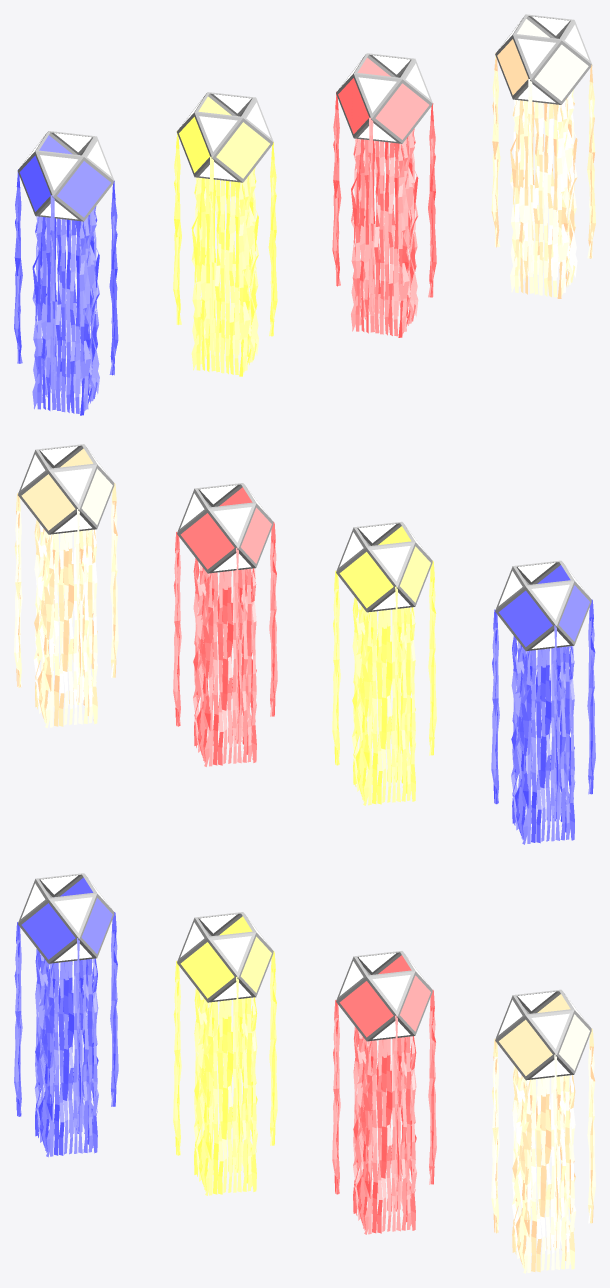
File: vesak_lanterns.glb
3 views of the same model, one above another, from view 1: azimuth 30°, elevation 25°; view 2: azimuth 150°, elevation 25°; view 3: azimuth 330°, elevation 25° (orthographic).
Visible parts, largest first — view 1: Plane.002_3, Plane.007_15, Plane.001_7, Plane.005_11, Cube_0, Cube.003_13, Cube.002_9, Cube.001_5, Plane.003_4, Plane.004_8, Plane.008_16, Plane.006_12; view 2: Plane.002_3, Plane.001_7, Plane.005_11, Plane.007_15, Cube.003_13, Cube.002_9, Cube_0, Cube.001_5, Plane.006_12, Plane.004_8, Plane.008_16, Plane.003_4; view 3: Plane.007_15, Plane.005_11, Plane.001_7, Plane.002_3, Cube_0, Cube.002_9, Cube.003_13, Cube.001_5, Plane.004_8, Plane.006_12, Plane.003_4, Plane.008_16.
Part boxes in pixels (<box>): Plane.002_3: <box>32,206,99,415</box>; Plane.007_15: <box>510,89,577,298</box>; Plane.001_7: <box>191,167,258,376</box>; Plane.005_11: <box>351,128,418,337</box>; Cube_0: <box>17,131,114,221</box>; Cube.003_13: <box>495,14,592,104</box>; Cube.002_9: <box>336,53,432,143</box>; Cube.001_5: <box>177,92,273,182</box>; Plane.003_4: <box>14,169,118,389</box>; Plane.004_8: <box>173,130,277,350</box>; Plane.008_16: <box>491,52,595,272</box>; Plane.006_12: <box>332,91,436,311</box>; Plane.002_3: <box>511,636,575,844</box>; Plane.001_7: <box>352,597,415,805</box>; Plane.005_11: <box>193,558,256,766</box>; Plane.007_15: <box>33,519,97,728</box>; Cube.003_13: <box>18,444,114,534</box>; Cube.002_9: <box>177,483,273,573</box>; Cube_0: <box>495,560,591,651</box>; Cube.001_5: <box>336,521,432,612</box>; Plane.006_12: <box>173,521,277,741</box>; Plane.004_8: <box>332,560,436,780</box>; Plane.008_16: <box>14,483,118,702</box>; Plane.003_4: <box>491,599,595,819</box>; Plane.007_15: <box>512,1065,576,1273</box>; Plane.005_11: <box>353,1026,416,1234</box>; Plane.001_7: <box>194,987,257,1195</box>; Plane.002_3: <box>34,949,98,1157</box>; Cube_0: <box>18,873,114,963</box>; Cube.002_9: <box>336,951,432,1041</box>; Cube.003_13: <box>495,989,591,1080</box>; Cube.001_5: <box>177,912,273,1002</box>; Plane.004_8: <box>173,950,277,1170</box>; Plane.006_12: <box>332,990,436,1209</box>; Plane.003_4: <box>14,912,118,1131</box>; Plane.008_16: <box>491,1028,595,1248</box>.
Size of the model in its own units: 17.62 by 7.99 by 2.16.
